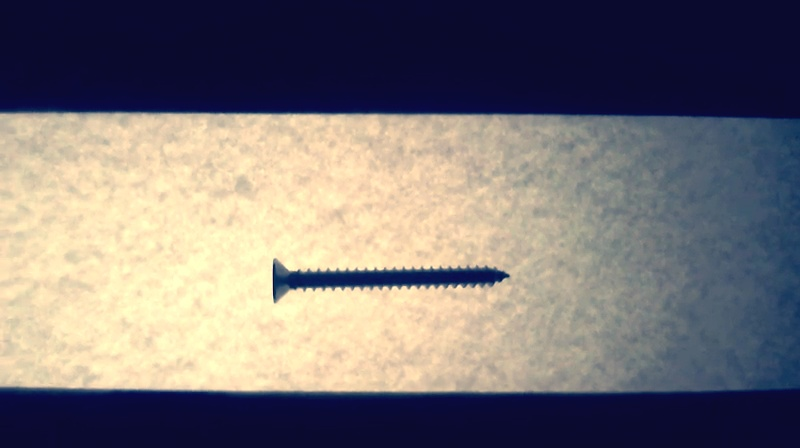S002: (269, 256, 512, 307)
